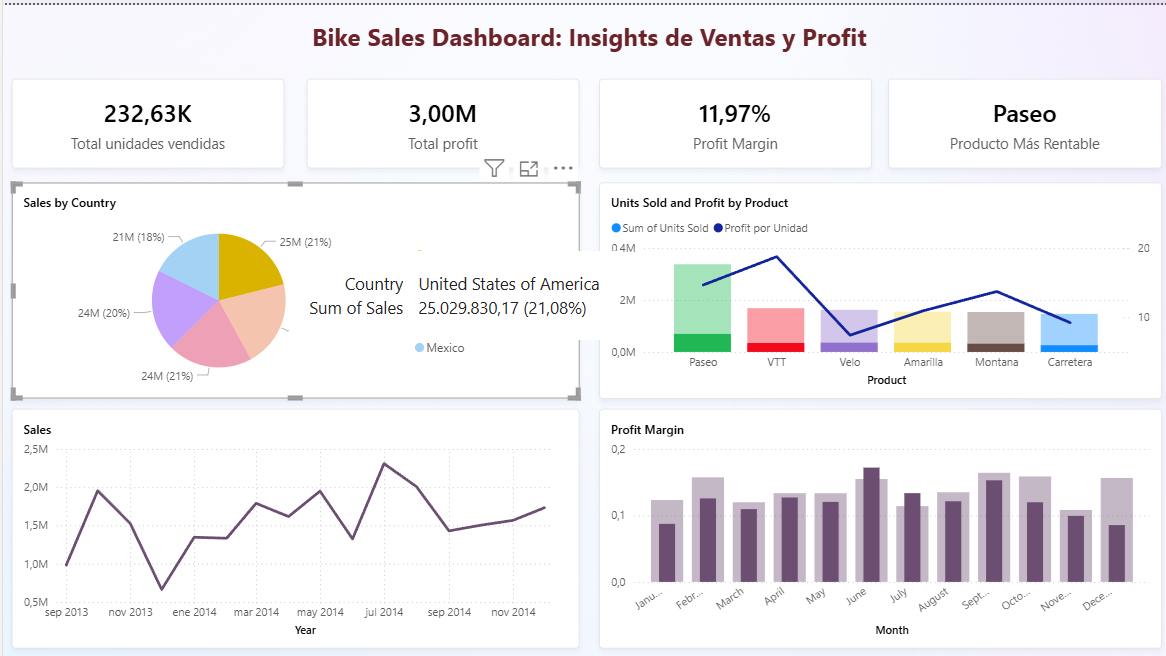

What the dashboard file says about the page in this screenshot:
{"tool":"powerbi","page":{"name":"Page 1","canvas":[1280,720],"ordinal":0},"visuals":[{"type":"card","fields":{"Values":["financials.Total unidades vendidas"]},"box":[9.6,81,299.1,98.8],"z":0},{"type":"card","fields":{"Values":["financials.Total profit"]},"box":[333.4,81,299.1,98.8],"z":1000},{"type":"card","fields":{"Values":["financials.Profit Margin"]},"box":[654.5,81,299.1,98.8],"z":2000},{"type":"card","fields":{"Values":["financials.Producto Más Rentable"]},"box":[971.5,81,300.5,98.8],"z":3000},{"type":"pieChart","title":"Sales by Country","fields":{"Category":["financials.Country"],"Y":["Sum(financials.Sales)"]},"box":[9.6,194.9,623,237.4],"z":4000},{"type":"lineChart","title":"Sales","fields":{"Y":["financials.Ventas diarias"],"Category":["financials.Date.Variation.Date Hierarchy.Year","financials.Date.Variation.Date Hierarchy.Quarter","financials.Date.Variation.Date Hierarchy.Month"]},"box":[9.6,443.2,623,263.5],"z":5000},{"type":"lineClusteredColumnComboChart","title":"Units Sold and Profit by Product","fields":{"Category":["financials.Product"],"Y":["Sum(financials.Units Sold)"],"Y2":["financials.Profit por Unidad"]},"box":[654.5,194.9,617.5,237.4],"z":6000},{"type":"columnChart","title":"Profit Margin","fields":{"Category":["financials.Date.Variation.Date Hierarchy.Month"],"Y":["financials.Profit Margin"]},"box":[654.5,443.2,617.5,263.5],"z":7000},{"type":"textbox","box":[17.8,11,1251.5,46.7],"z":8000}]}

Visuals, with their boxes in screenshot pixels (x1, y1, x2, y2), scaled from the page's 1280x720 canvas onto the 1166x656 screenshot:
card - financials.Total unidades vendidas: 9 74 281 164
card - financials.Total profit: 304 74 576 164
card - financials.Profit Margin: 596 74 869 164
card - financials.Producto Más Rentable: 885 74 1159 164
"Sales by Country" pieChart: 9 178 576 394
"Sales" lineChart: 9 404 576 644
"Units Sold and Profit by Product" lineClusteredColumnComboChart: 596 178 1159 394
"Profit Margin" columnChart: 596 404 1159 644
textbox: 16 10 1156 53
